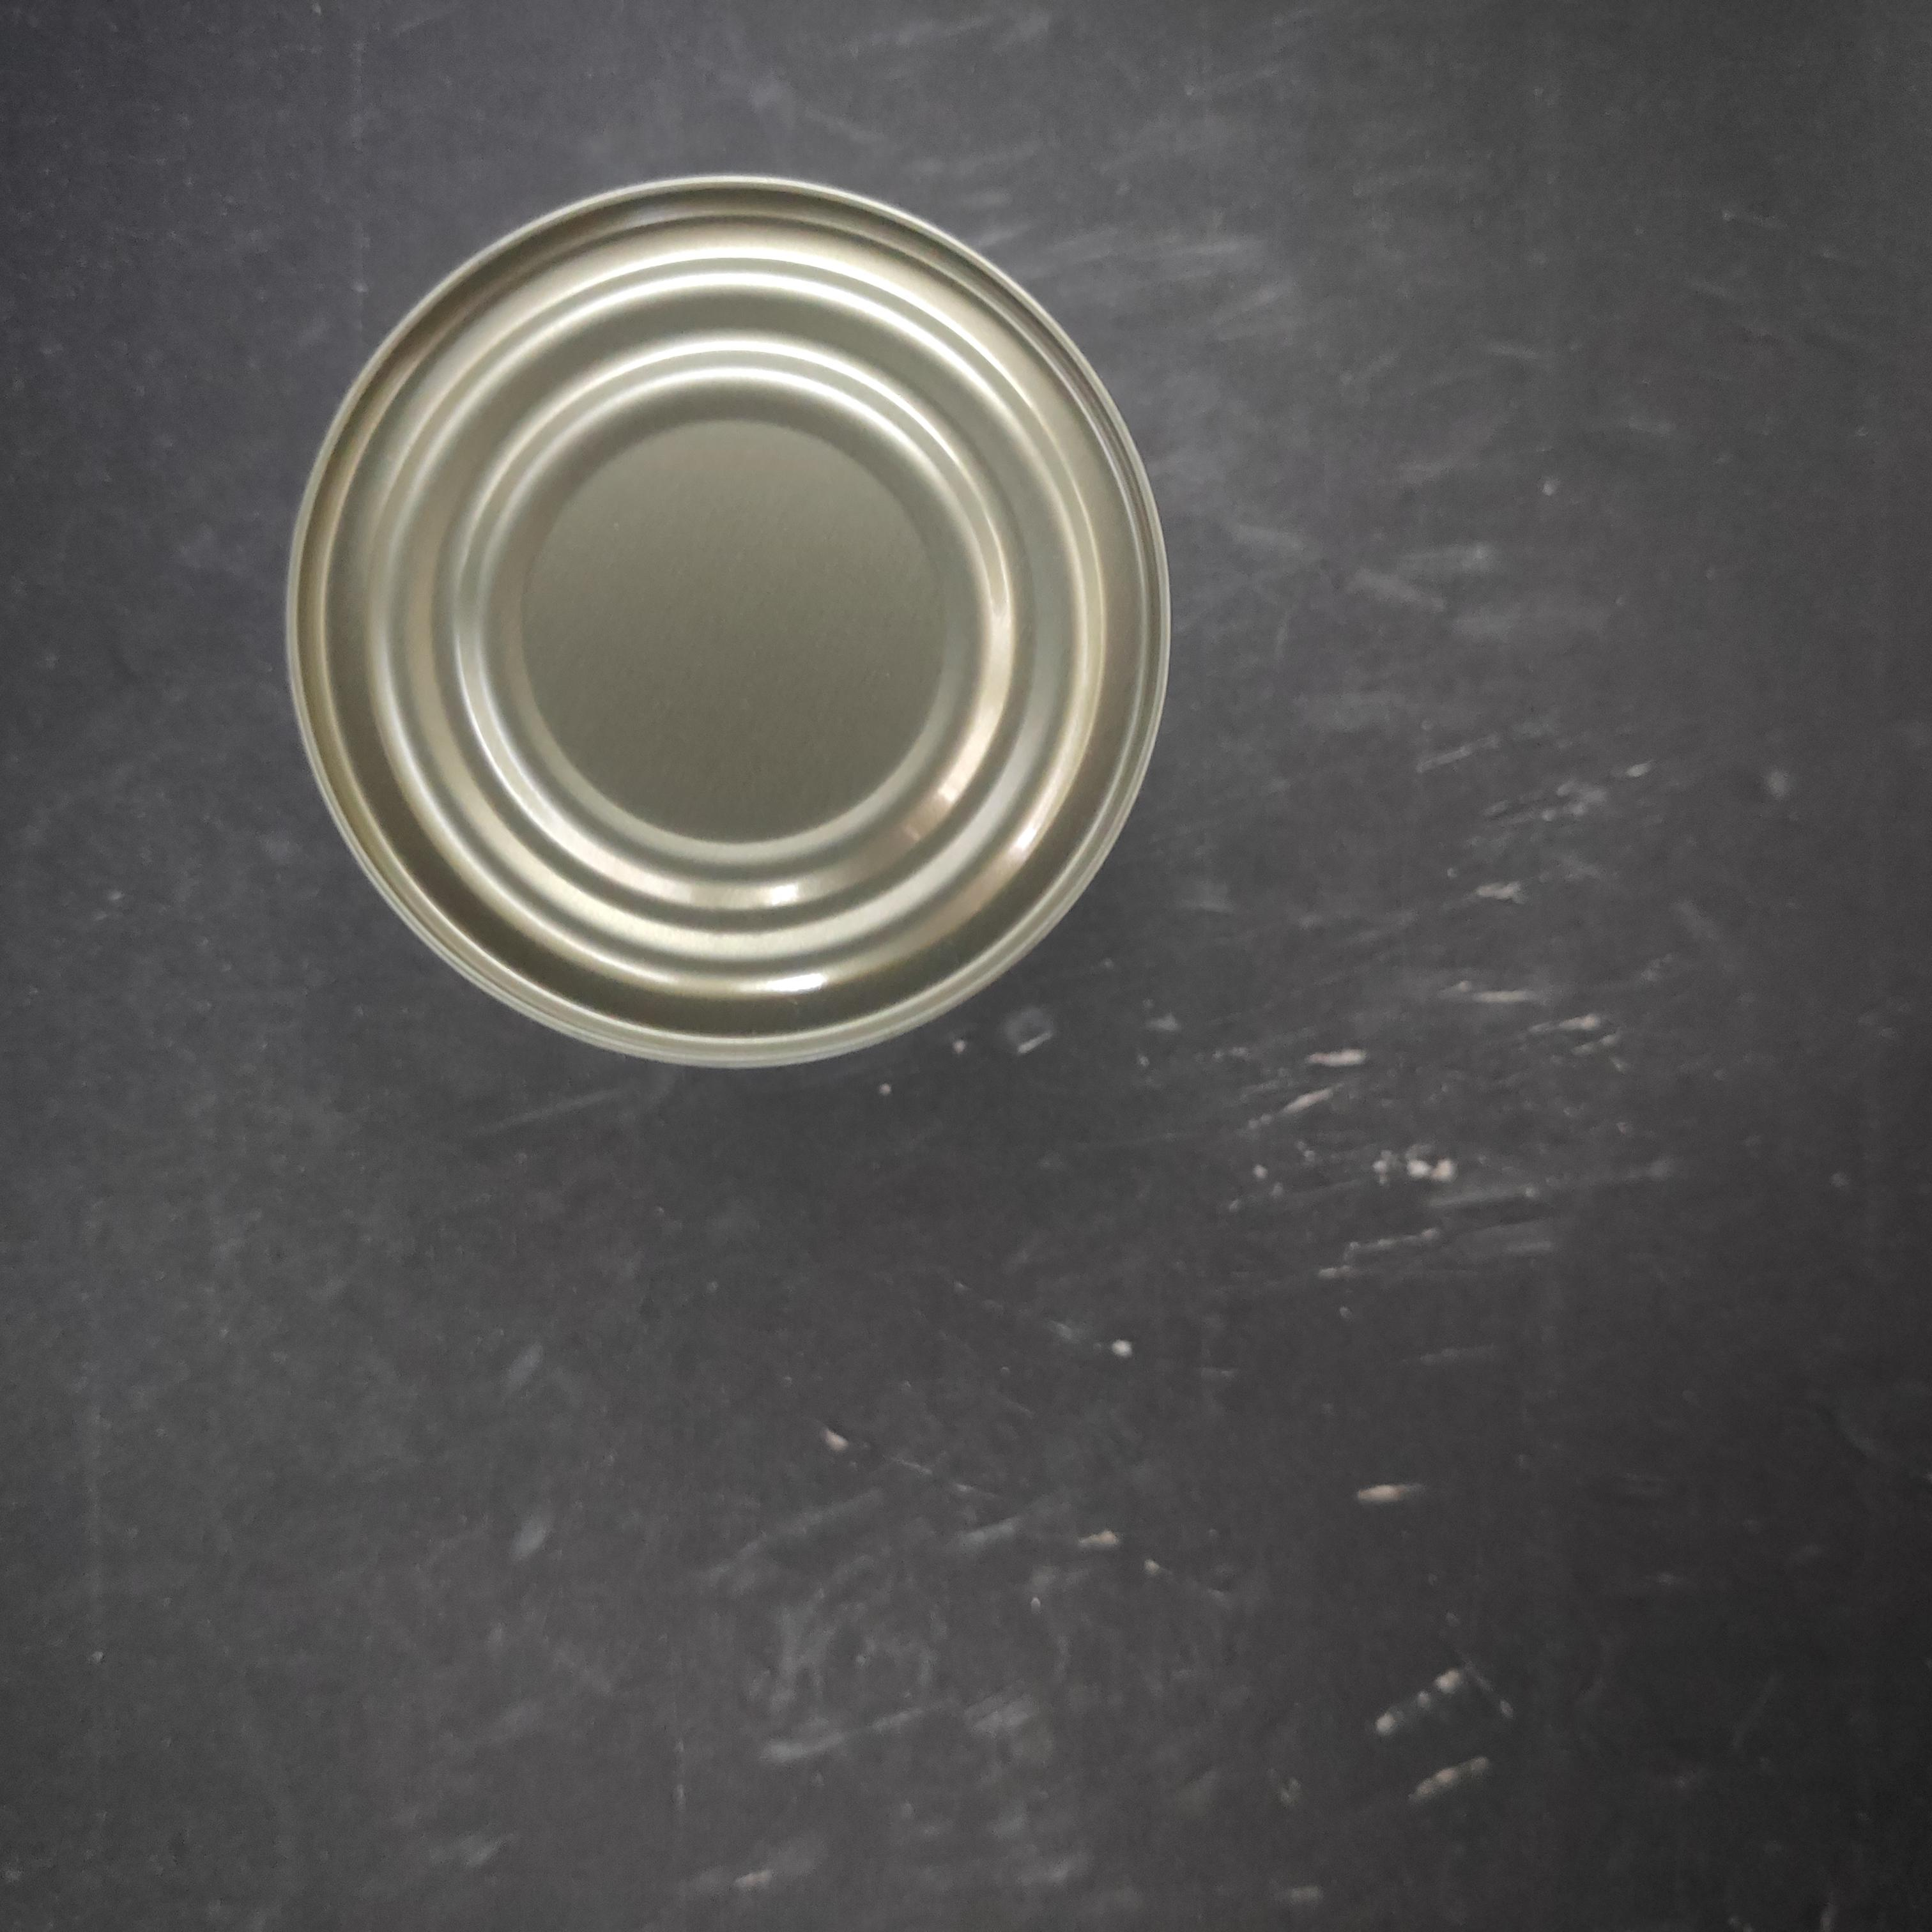No defect: (170, 755, 1074, 1652)
